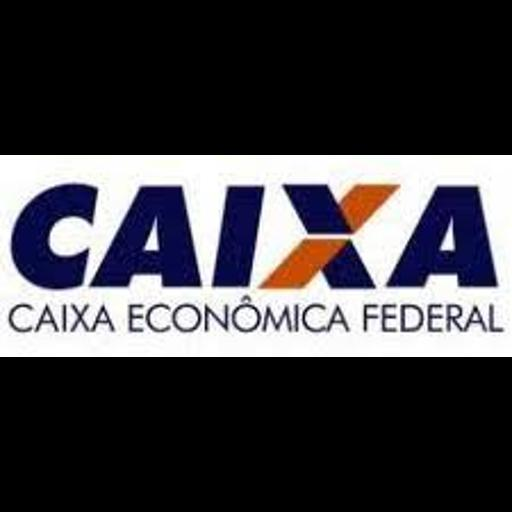Caixa Economica Federal: (0, 155, 512, 357)
